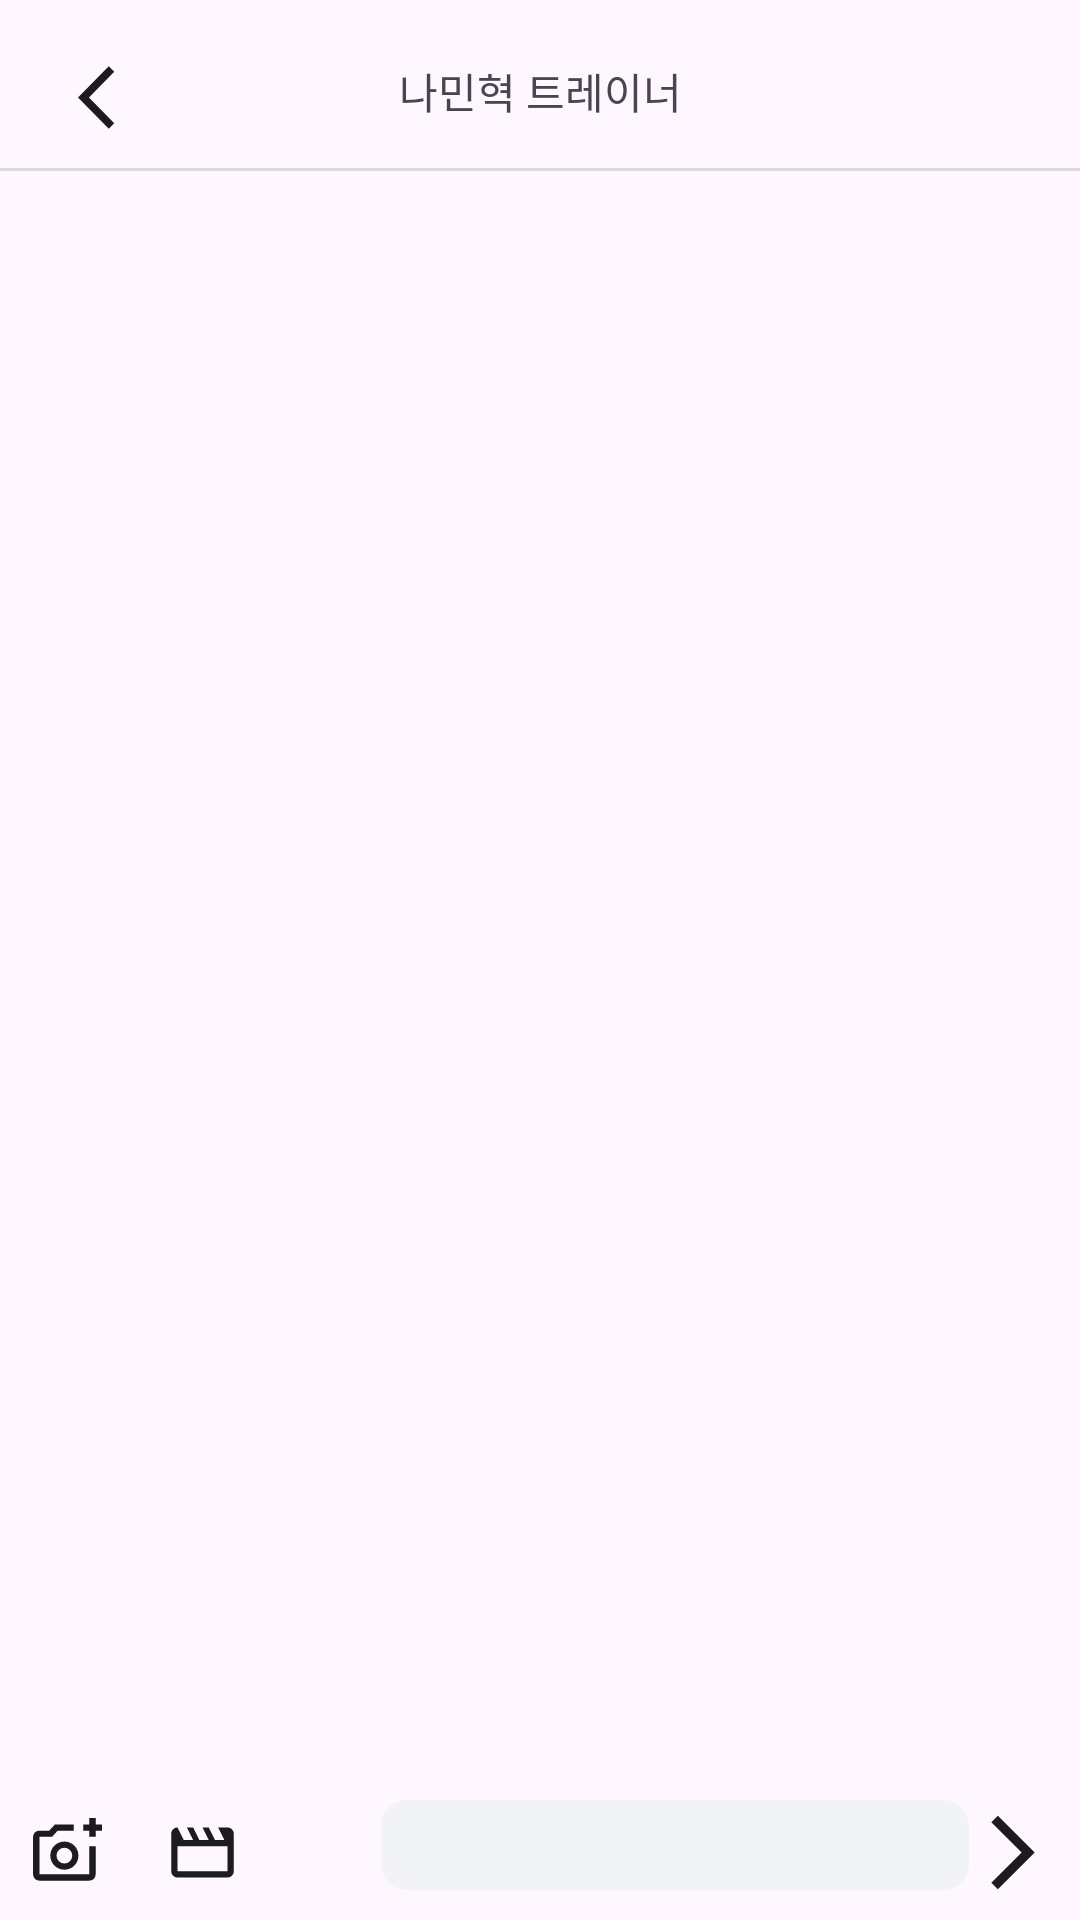

Screen size 1080*1920. Icon name, then its center in pixels as [x,y]:
question backbtn: [96,97]
question camarabtn: [67,1849]
question moviebtn: [202,1852]
